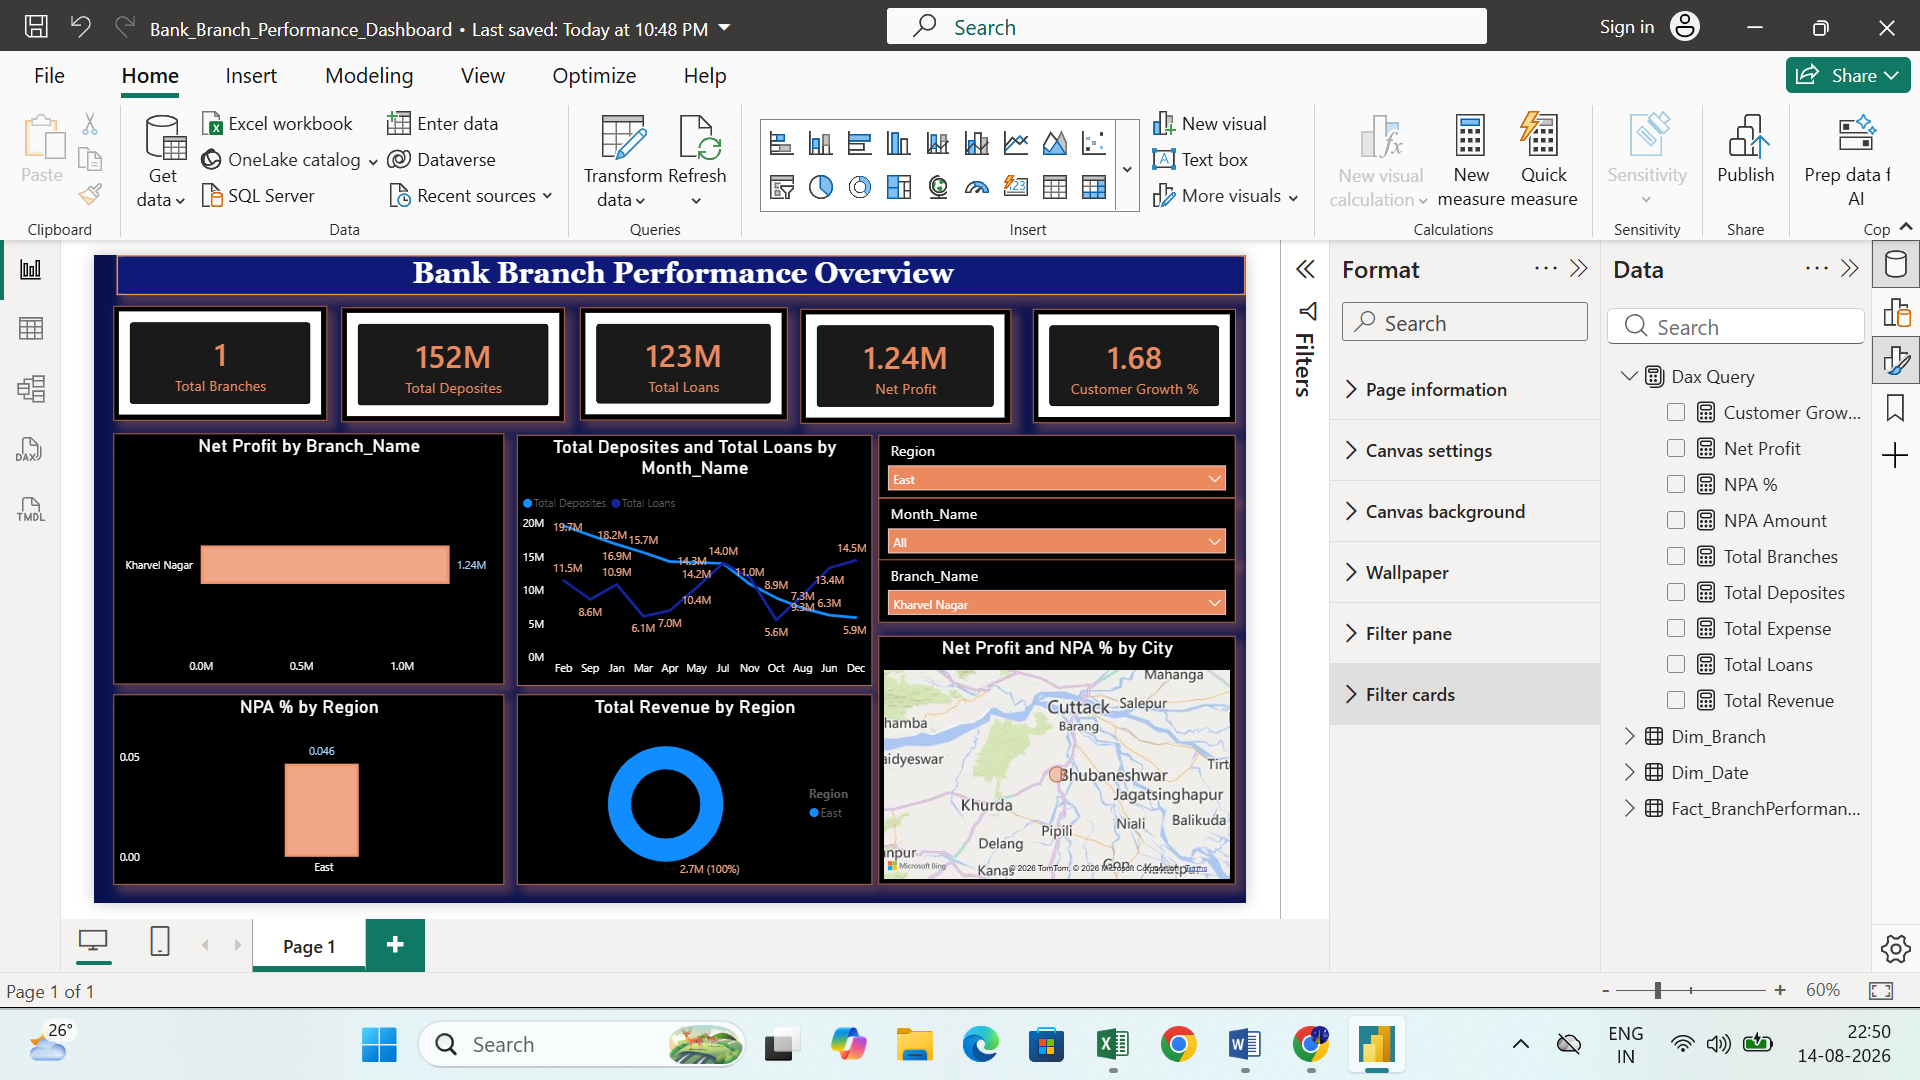

This screenshot's page, from the dashboard's own definition file:
{"tool":"powerbi","page":{"name":"Page 1","canvas":[1280,720],"ordinal":0},"visuals":[{"type":"textbox","title":"Bank Branch Performance Overview","box":[25.4,0,1255,44.5],"z":0},{"type":"cardVisual","fields":{"Data":["Dax Query.Total Branches"]},"box":[21.7,56.7,237,127.2],"z":1000},{"type":"cardVisual","fields":{"Data":["Dax Query.Total Loans"]},"box":[539.2,58.9,230.6,125.7],"z":2000},{"type":"cardVisual","fields":{"Data":["Dax Query.Net Profit"]},"box":[785.8,60.4,233.8,127.2],"z":3000},{"type":"cardVisual","fields":{"Data":["Dax Query.Customer Growth %"]},"box":[1043.3,60,225,126.7],"z":4000},{"type":"cardVisual","fields":{"Data":["Dax Query.Total Deposites"]},"box":[275.2,58.9,248.1,127.2],"z":5000},{"type":"clusteredBarChart","fields":{"Category":["Dim_Branch.Branch_Name"],"Y":["Dax Query.Net Profit"]},"box":[22.3,198.8,434.2,278.4],"z":6000},{"type":"lineChart","fields":{"Category":["Dim_Date.Month_Name"],"Y":["Dax Query.Total Deposites","Dax Query.Total Loans"]},"box":[469.2,200.4,394.5,278.4],"z":7000},{"type":"clusteredColumnChart","fields":{"Category":["Dim_Branch.Region"],"Y":["Dax Query.NPA %"]},"box":[22.3,488.3,434.2,211.6],"z":8000},{"type":"donutChart","fields":{"Category":["Dim_Branch.Region"],"Y":["Dax Query.Total Revenue"]},"box":[469.2,488.3,394.5,211.6],"z":9000},{"type":"map","fields":{"Category":["Dim_Branch.City"],"Size":["Dax Query.Net Profit"]},"box":[871,423.3,396.7,276],"z":10000},{"type":"slicer","fields":{"Values":["Dim_Branch.Region"]},"box":[871.7,200,396.7,70],"z":11000},{"type":"slicer","fields":{"Values":["Dim_Date.Month_Name"]},"box":[871.7,270,396.7,70],"z":12000},{"type":"slicer","fields":{"Values":["Dim_Branch.Branch_Name"]},"box":[871.7,338.3,396.7,70],"z":13000}]}

Visuals, with their boxes on the page's 1280x720 design canvas (x1, y1, x2, y2). These are canvas units, not pixel positions in the 1920x1080 screenshot, which may show the page scaled, cropped or inside an application window:
"Bank Branch Performance Overview" textbox: select_region(25, 0, 1280, 44)
cardVisual - Dax Query.Total Branches: select_region(22, 57, 259, 184)
cardVisual - Dax Query.Total Loans: select_region(539, 59, 770, 185)
cardVisual - Dax Query.Net Profit: select_region(786, 60, 1020, 188)
cardVisual - Dax Query.Customer Growth %: select_region(1043, 60, 1268, 187)
cardVisual - Dax Query.Total Deposites: select_region(275, 59, 523, 186)
clusteredBarChart - Dim_Branch.Branch_Name x Dax Query.Net Profit: select_region(22, 199, 456, 477)
lineChart - Dim_Date.Month_Name x Dax Query.Total Deposites: select_region(469, 200, 864, 479)
clusteredColumnChart - Dim_Branch.Region x Dax Query.NPA %: select_region(22, 488, 456, 700)
donutChart - Dim_Branch.Region x Dax Query.Total Revenue: select_region(469, 488, 864, 700)
map - Dim_Branch.City x Dax Query.Net Profit: select_region(871, 423, 1268, 699)
slicer - Dim_Branch.Region: select_region(872, 200, 1268, 270)
slicer - Dim_Date.Month_Name: select_region(872, 270, 1268, 340)
slicer - Dim_Branch.Branch_Name: select_region(872, 338, 1268, 408)
